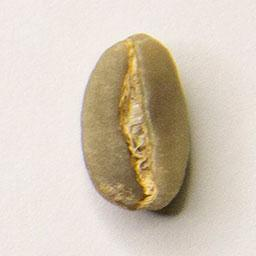longberry: (78, 30, 195, 214)
